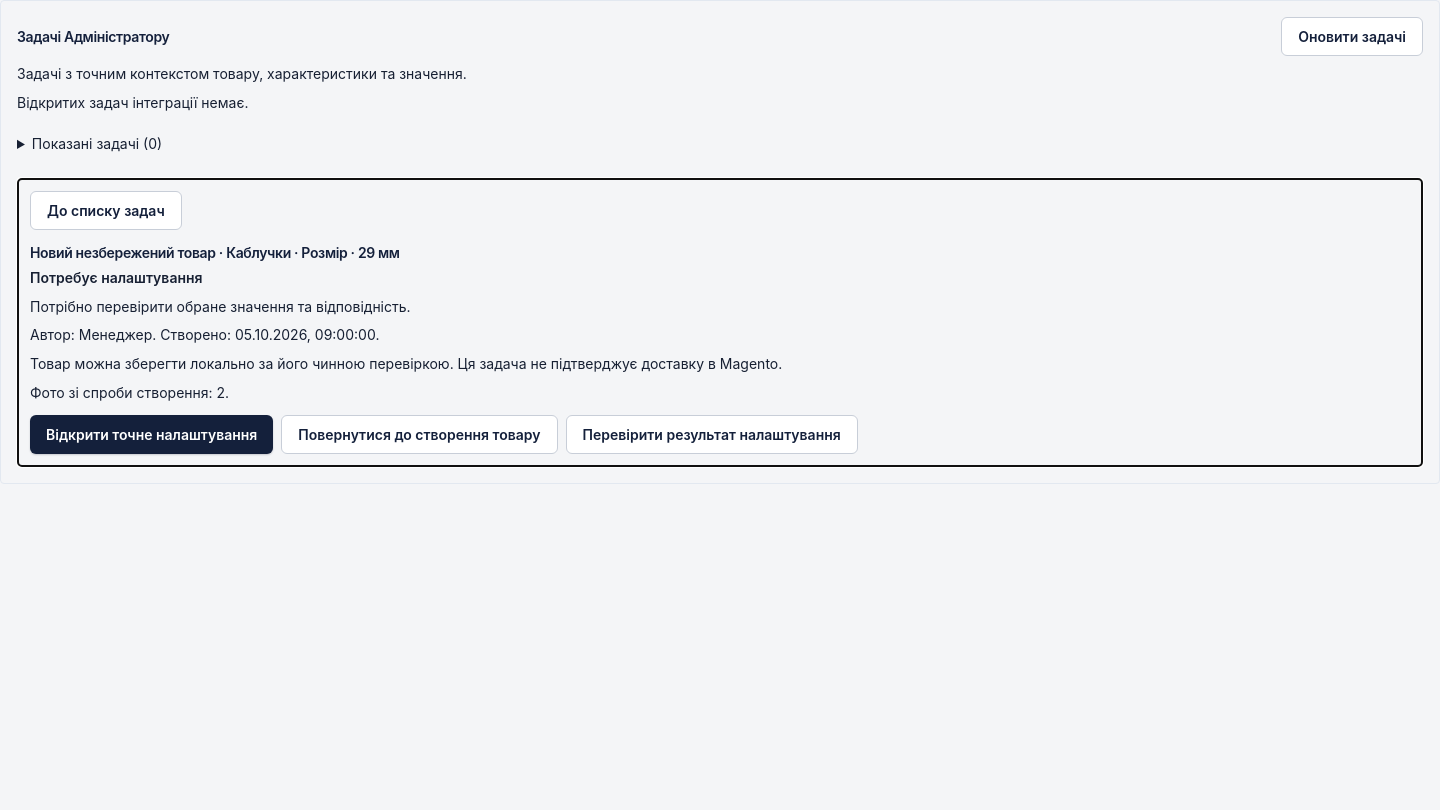
it: not-ready and missing-token checks cannot offer a local completion button
Click the button "Перевірити результат налаштування" at (712, 434), box x1=566 y1=415 x2=858 y2=454
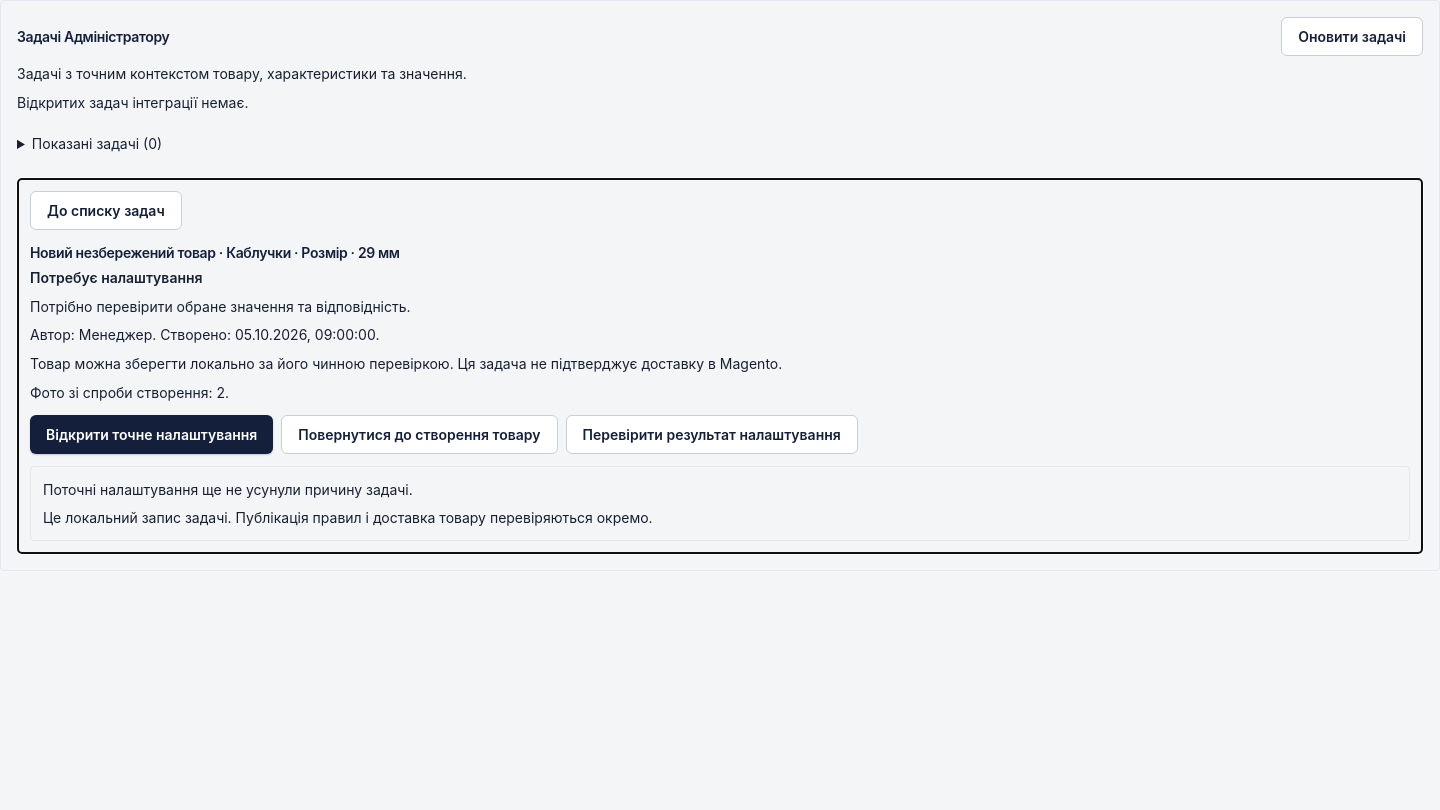
Expected: the text "Поточні налаштування ще не усунули причину задачі." is shown, x1=43 y1=481 x2=413 y2=498
Click the button "Перевірити результат налаштування" at (712, 434), box x1=566 y1=415 x2=858 y2=454
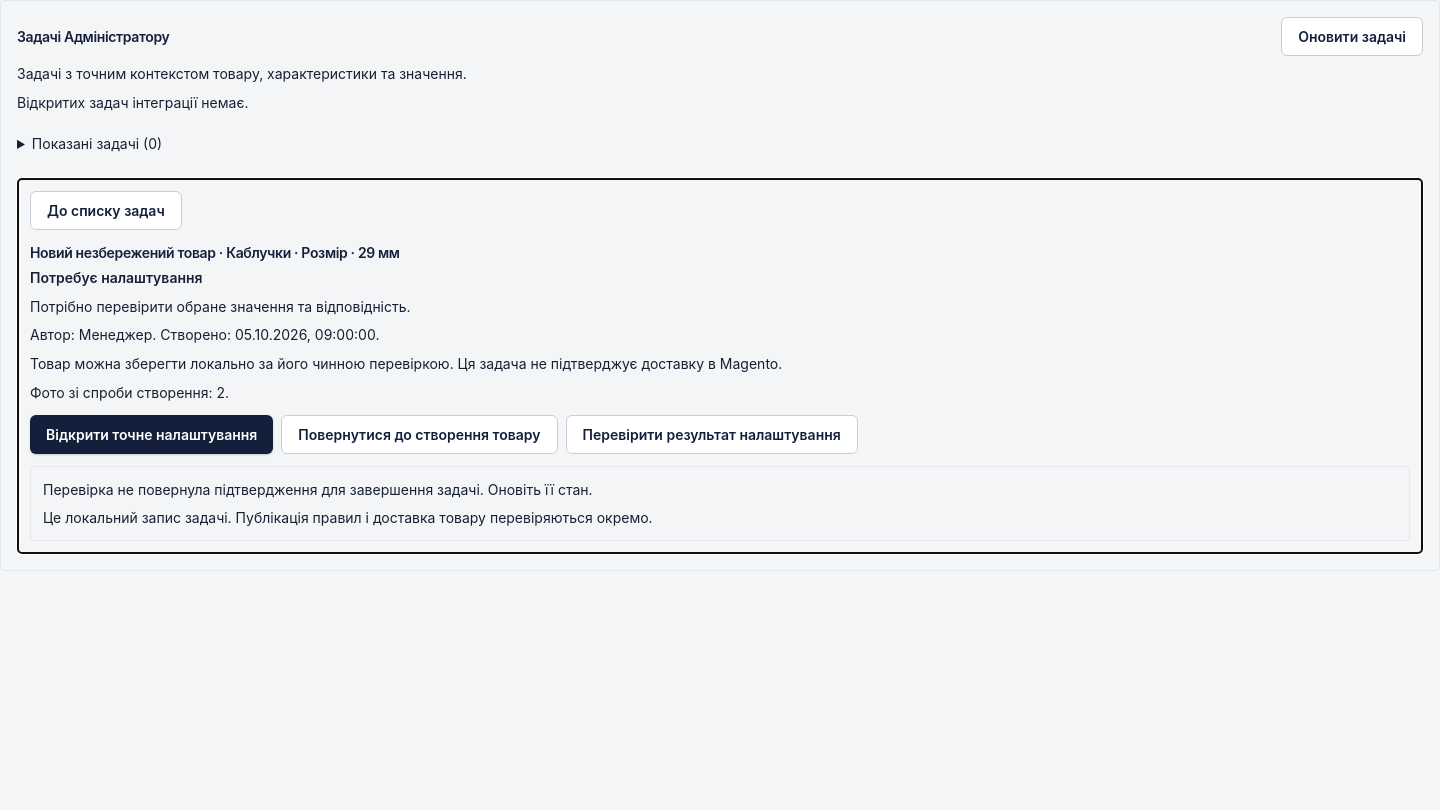
Expected: the text "Перевірка не повернула підтвердження" is shown, x1=43 y1=481 x2=593 y2=498
